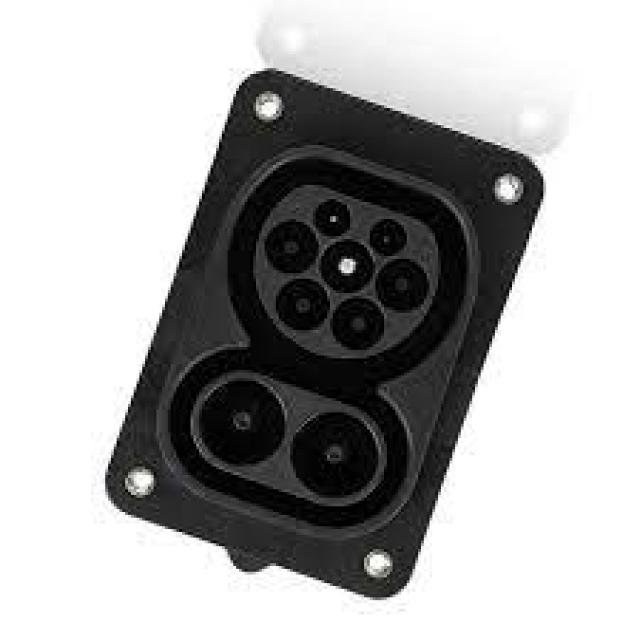inlet: (253, 185, 439, 359)
inlet-above-left: (314, 199, 351, 236)
inlet-above-right: (368, 219, 406, 256)
inlet-below-left: (275, 277, 330, 331)
inlet-below-right: (331, 299, 385, 350)
inlet-circle: (321, 240, 374, 293)
inlet-circle-left: (265, 218, 319, 274)
inlet-circle-right: (375, 259, 427, 312)
inlet-minus: (291, 412, 378, 497)
inlet-plus: (198, 379, 285, 465)
